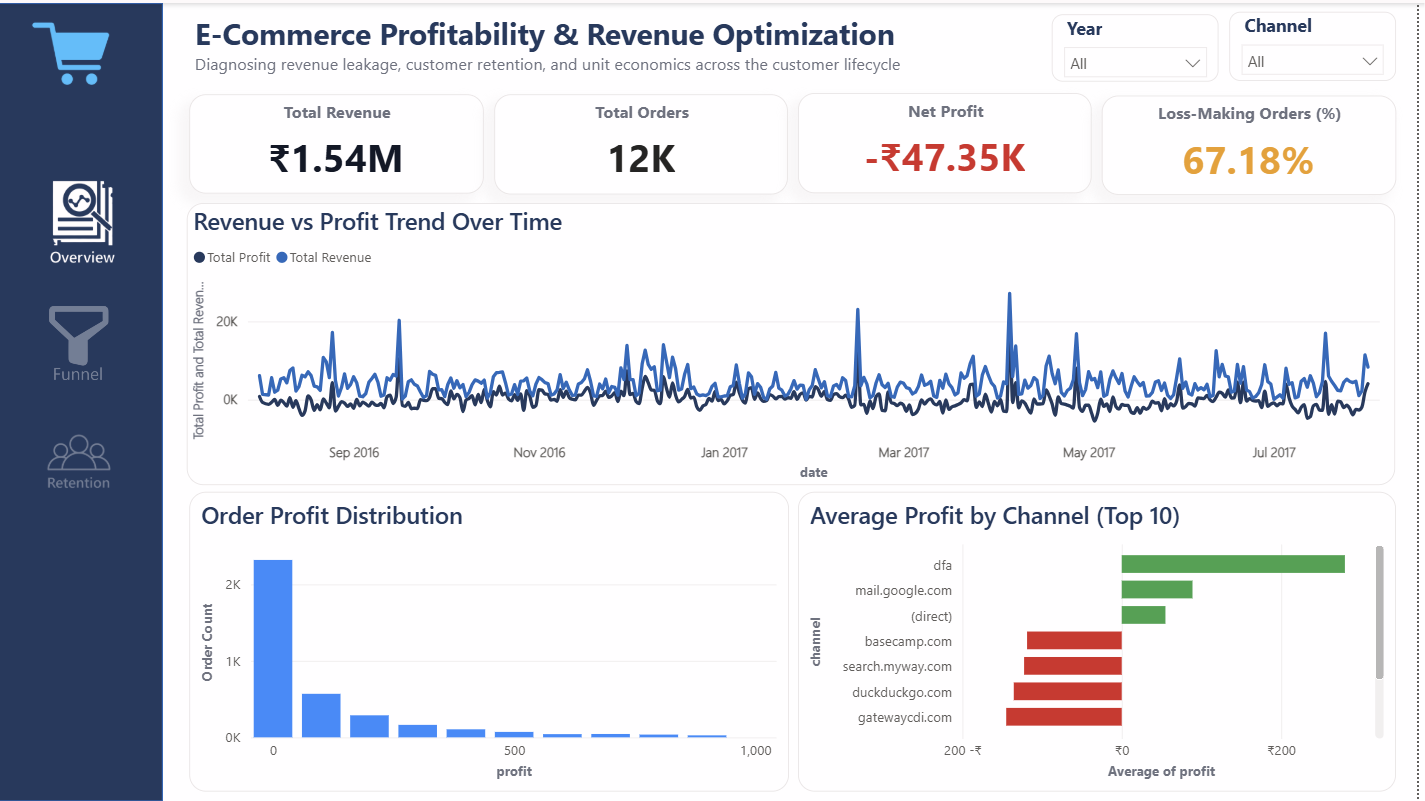

Layout of this report page (visuals, bound fields, positions):
{"tool":"powerbi","page":{"name":"Executive Summary","canvas":[1280,720],"ordinal":0},"visuals":[{"type":"cardVisual","title":"Total Revenue","fields":{"Data":["Dax Measures1.Total Revenue Display"]},"box":[172.4,81.9,265.4,89.3],"z":0},{"type":"shape","box":[0,0,148.8,720],"z":1000},{"type":"cardVisual","title":"Total Orders","fields":{"Data":["Dax Measures1.Total Orders"]},"box":[447,81.9,265,90.5],"z":2000},{"type":"cardVisual","title":"Net Profit","fields":{"Data":["Dax Measures1.Total Profit Display"]},"box":[721.2,81.5,265,90.6],"z":3000},{"type":"cardVisual","title":"Loss-Making Orders (%)","fields":{"Data":["Dax Measures1.Loss Orders %"]},"box":[995.4,83.2,265.4,89.3],"z":4000},{"type":"lineChart","title":"Revenue vs Profit Trend Over Time","fields":{"Category":["final_orders.date"],"Y":["Dax Measures1.Total Profit","Dax Measures1.Total Revenue"]},"box":[170,180,1089.5,254],"z":5000},{"type":"clusteredColumnChart","title":"Order Profit Distribution","fields":{"Category":["final_orders.profit (bins)"],"Y":["Dax Measures1.Order Count"]},"box":[172.4,440.2,540.5,270.2],"z":6000},{"type":"barChart","title":"Average Profit by Channel (Top 10)","fields":{"Category":["final_orders.channel"],"Y":["Avg(final_orders.profit)"]},"box":[721.5,440.2,539.3,270.2],"z":7000},{"type":"slicer","title":"Year","fields":{"Values":["final_orders.date.Variation.Date Hierarchy.Year","final_orders.date.Variation.Date Hierarchy.Quarter","final_orders.date.Variation.Date Hierarchy.Month","final_orders.date.Variation.Date Hierarchy.Day"]},"box":[950.1,9.8,150.4,61.1],"z":8000},{"type":"slicer","fields":{"Values":["final_orders.channel"]},"box":[1110,8,150,62],"z":9000},{"type":"textbox","box":[172.4,4.9,777.7,70.9],"z":10000},{"type":"actionButton","box":[42.5,271.2,60,72.5],"z":11000},{"type":"actionButton","box":[45,156.2,60,81.2],"z":12000},{"type":"actionButton","box":[42.5,377.5,60,72.5],"z":13000},{"type":"actionButton","box":[30,12,71.8,64.1],"z":14000}]}

Visuals, with their boxes on the page's 1280x720 design canvas (x1, y1, x2, y2). These are canvas units, not pixel positions in the 1425x801 screenshot, which may show the page scaled, cropped or inside an application window:
"Total Revenue" cardVisual: 172:82:438:171
shape: 0:0:149:720
"Total Orders" cardVisual: 447:82:712:172
"Net Profit" cardVisual: 721:82:986:172
"Loss-Making Orders (%)" cardVisual: 995:83:1261:172
"Revenue vs Profit Trend Over Time" lineChart: 170:180:1260:434
"Order Profit Distribution" clusteredColumnChart: 172:440:713:710
"Average Profit by Channel (Top 10)" barChart: 722:440:1261:710
"Year" slicer: 950:10:1100:71
slicer - final_orders.channel: 1110:8:1260:70
textbox: 172:5:950:76
actionButton: 42:271:102:344
actionButton: 45:156:105:237
actionButton: 42:378:102:450
actionButton: 30:12:102:76
